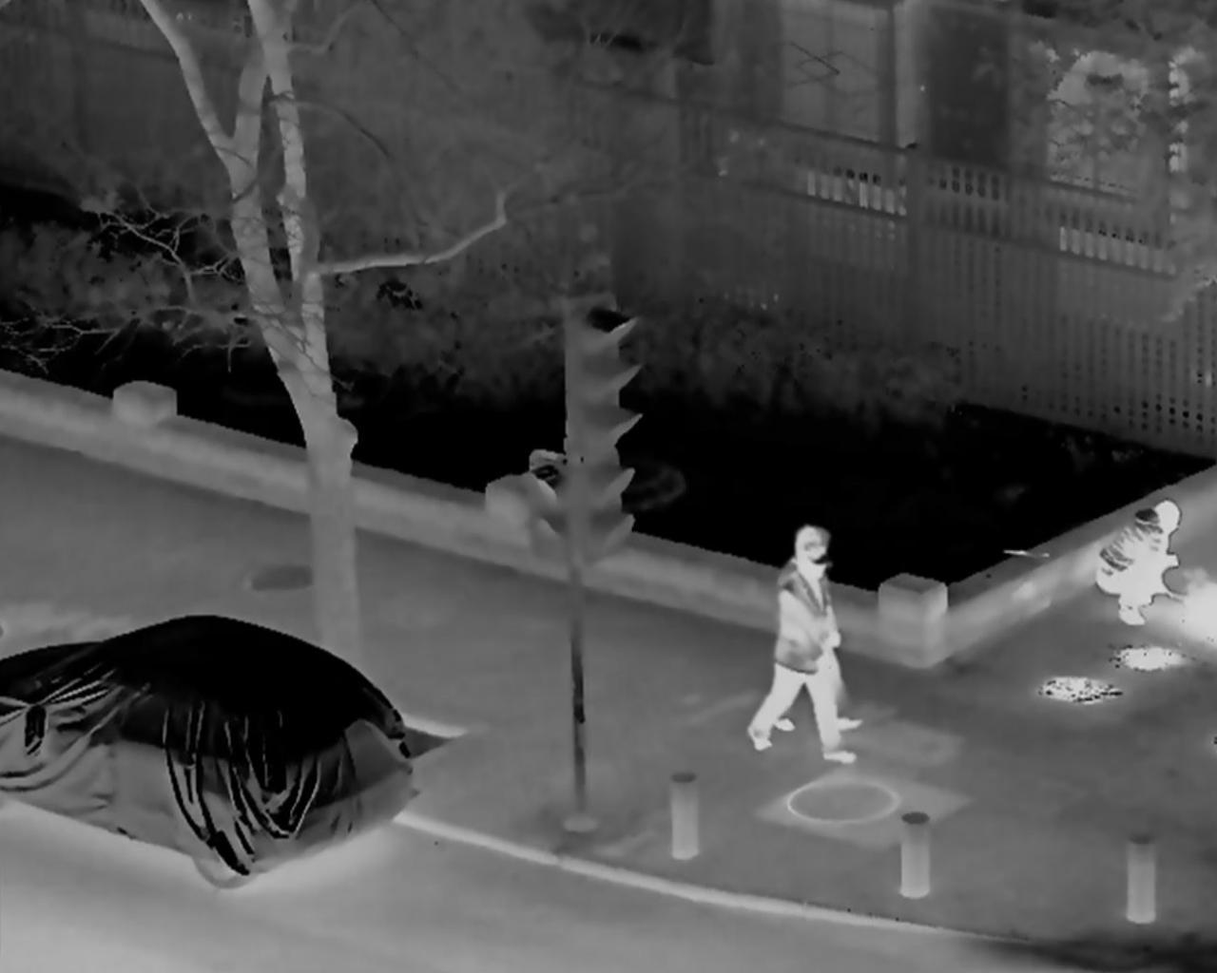person: (741, 541, 860, 766), (770, 524, 863, 733), (1092, 500, 1189, 627)
